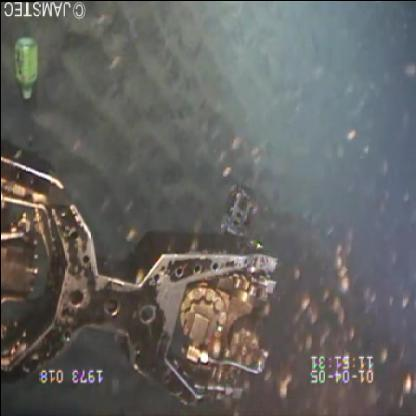Rov: (1, 140, 279, 408)
Rác: (12, 33, 42, 108)
